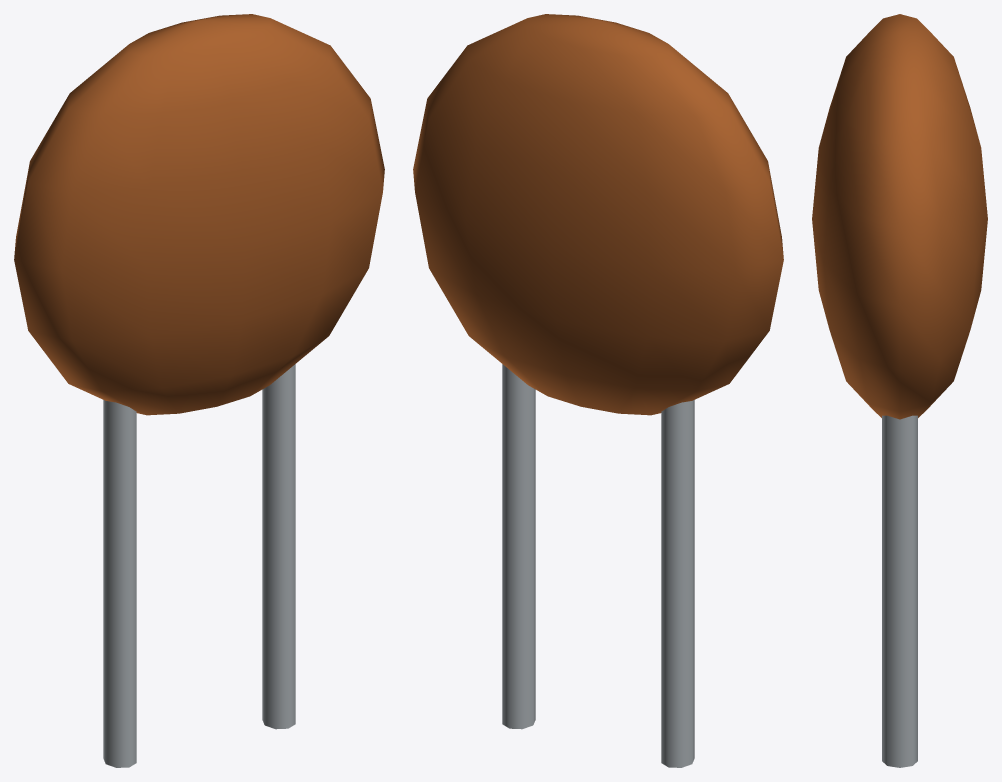
Rendered from cmp-capacitor-ceramic.glb.
The picture shows the model from 3 angles, left to right: view 1: azimuth 30°, elevation 25°; view 2: azimuth 150°, elevation 25°; view 3: azimuth 270°, elevation 25°; orthographic projection. The views are drawn at different scales.
Visible parts, largest first — view 1: STATIC_paint, STATIC_metal; view 2: STATIC_paint, STATIC_metal; view 3: STATIC_paint, STATIC_metal.
Boxes of the visible parts, x1,y1,x2,y2 form: STATIC_paint: (14, 14, 384, 415); STATIC_metal: (103, 364, 295, 767); STATIC_paint: (413, 14, 783, 415); STATIC_metal: (502, 364, 694, 767); STATIC_paint: (812, 14, 987, 419); STATIC_metal: (882, 415, 917, 767).
Bounding box in the file's own units: 0.007 × 0.013 × 0.003.
